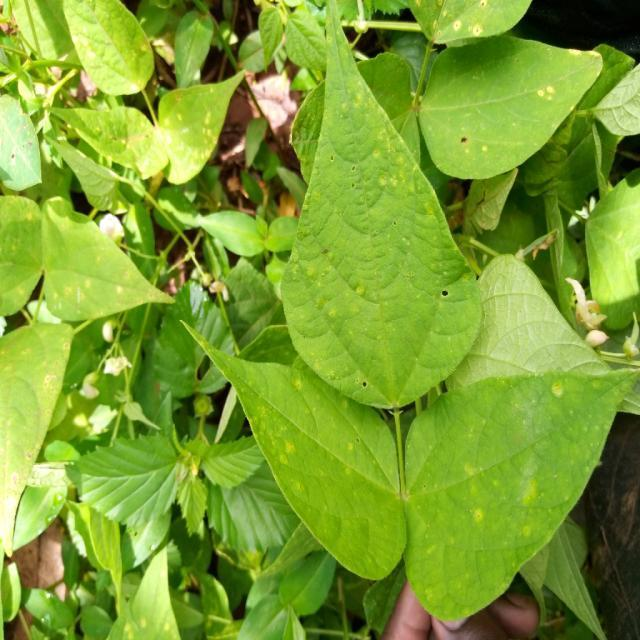hawar: (0, 218, 140, 496), (287, 78, 444, 315), (443, 380, 582, 566), (239, 364, 370, 532), (414, 0, 577, 108)
